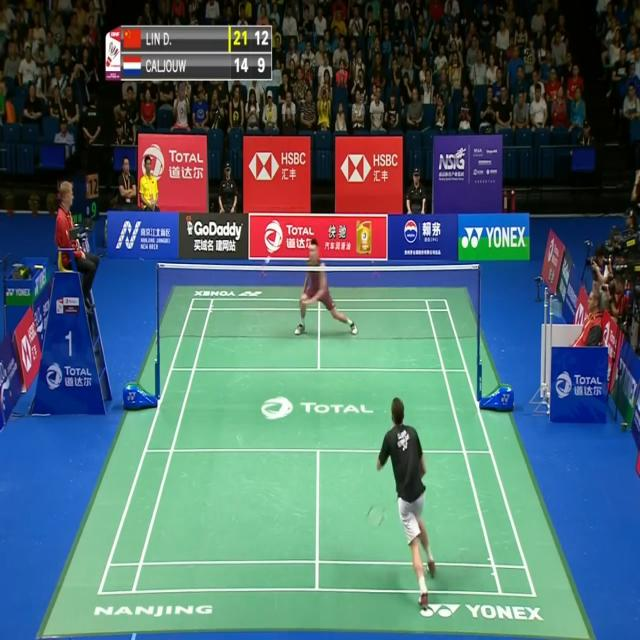Player1: (368, 394, 446, 612)
Player2: (294, 233, 361, 347)
